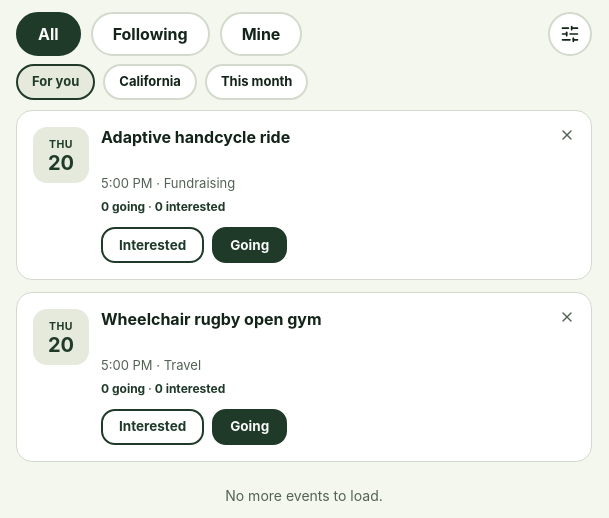
EventsPage › removes a dismissed event from the list
The width and height of the screenshot is (609, 518).
Expected: the heading "Adaptive handcycle ride" is shown, 101,127 -> 290,147
Click the button named "Not interested in Adaptive handcycle ride" at (567, 135), box 553,121 -> 581,149
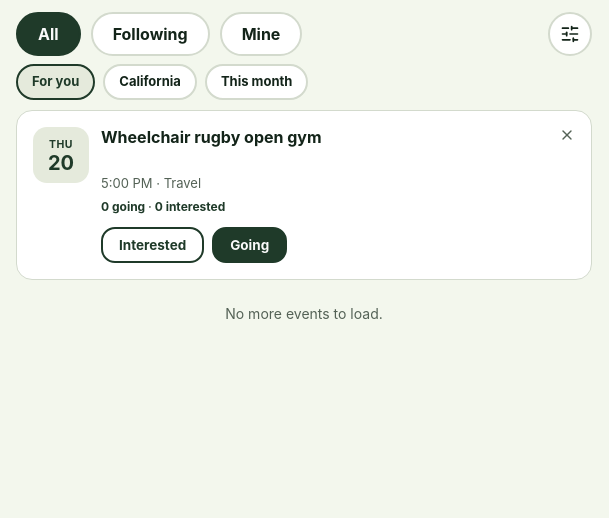
Expected: the heading "Wheelchair rugby open gym" is shown, 101,127 -> 322,147
Result: the button "Adaptive handcycle ride" is gone
